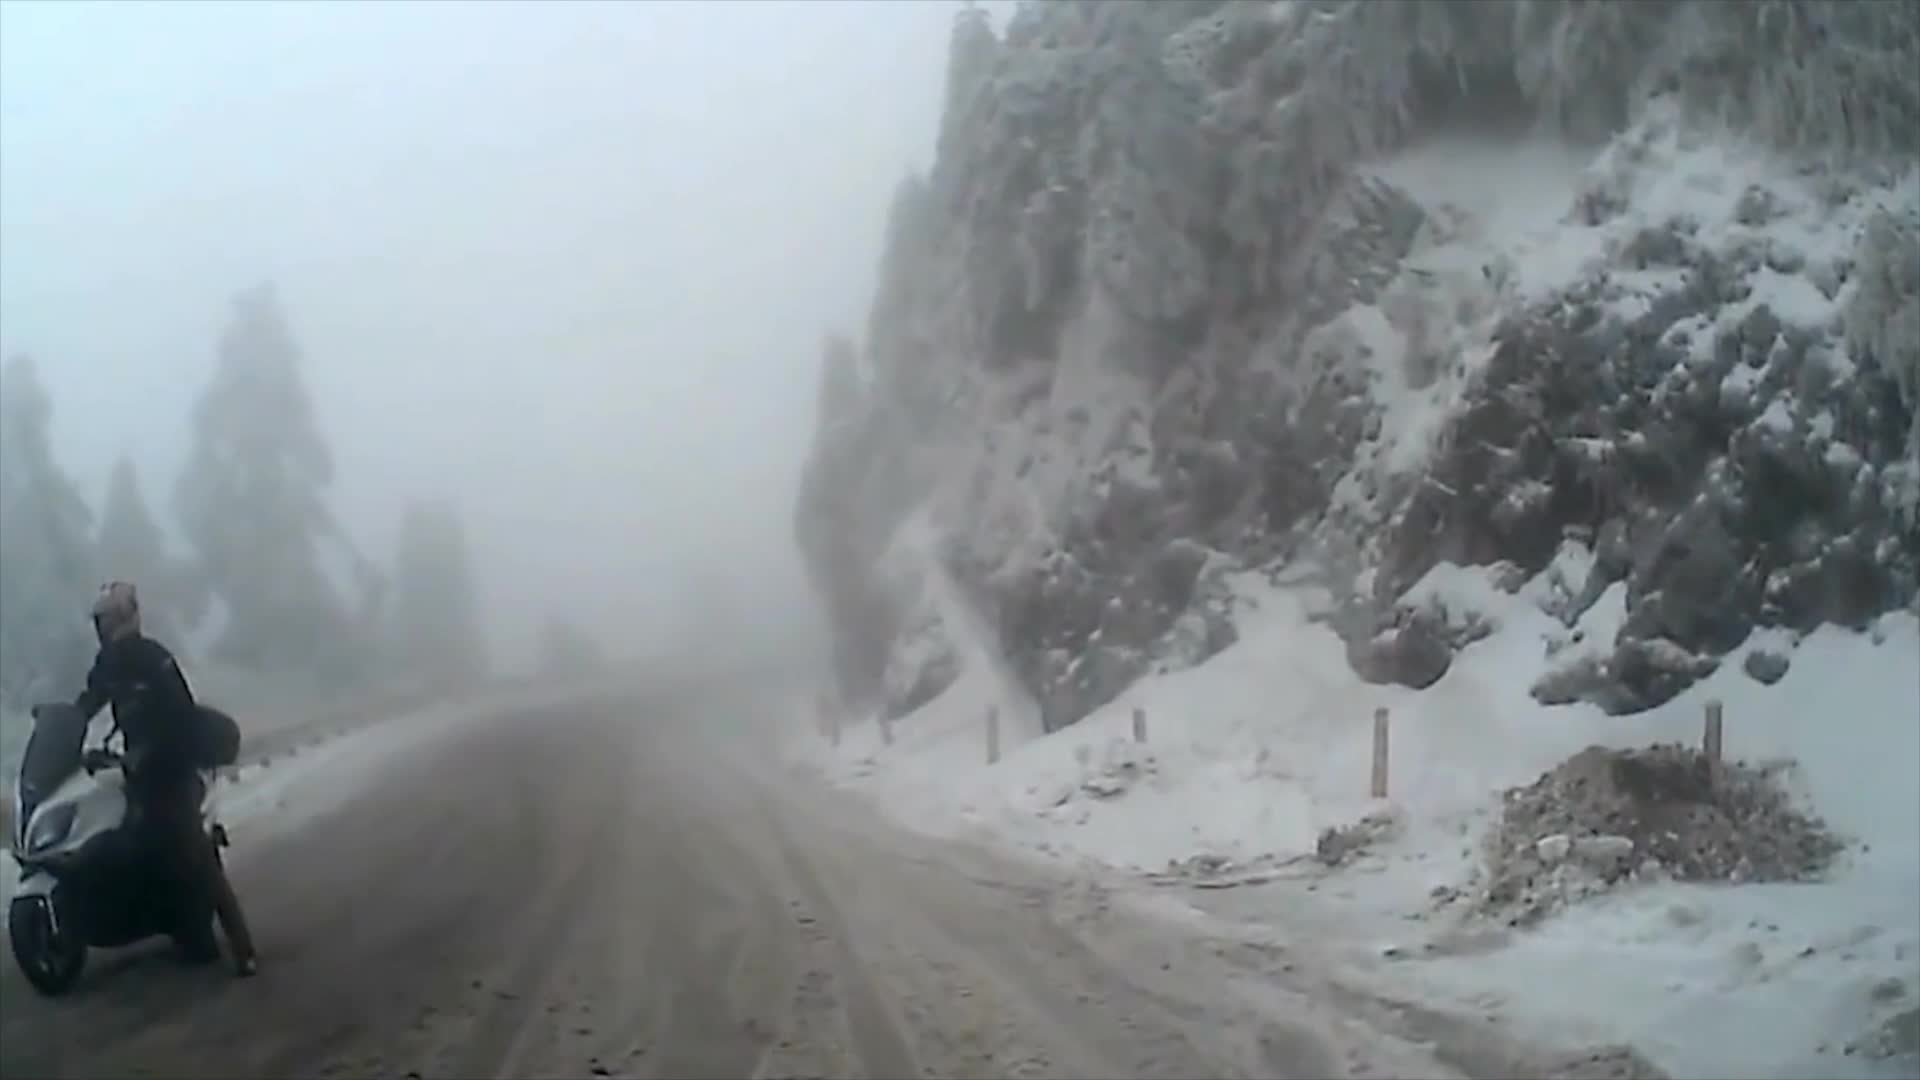pedestrian: (48, 574, 258, 973)
